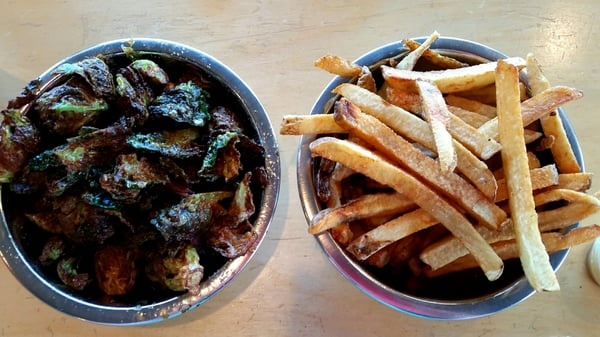sushi: (0, 37, 283, 327), (299, 54, 597, 321)
